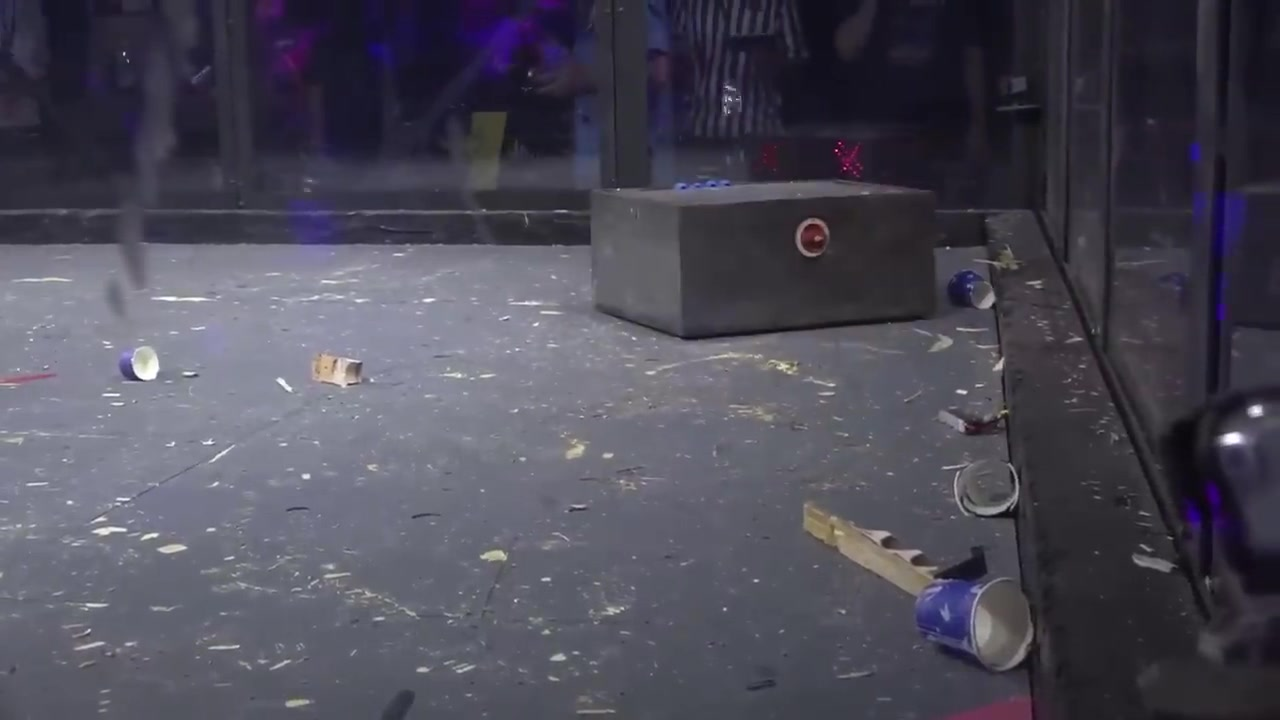debris: (776, 476, 989, 576), (913, 579, 1041, 673), (944, 450, 1019, 517), (937, 405, 1009, 439), (949, 262, 996, 309), (311, 353, 366, 386), (117, 346, 161, 381)
housebot: (588, 180, 937, 342)
